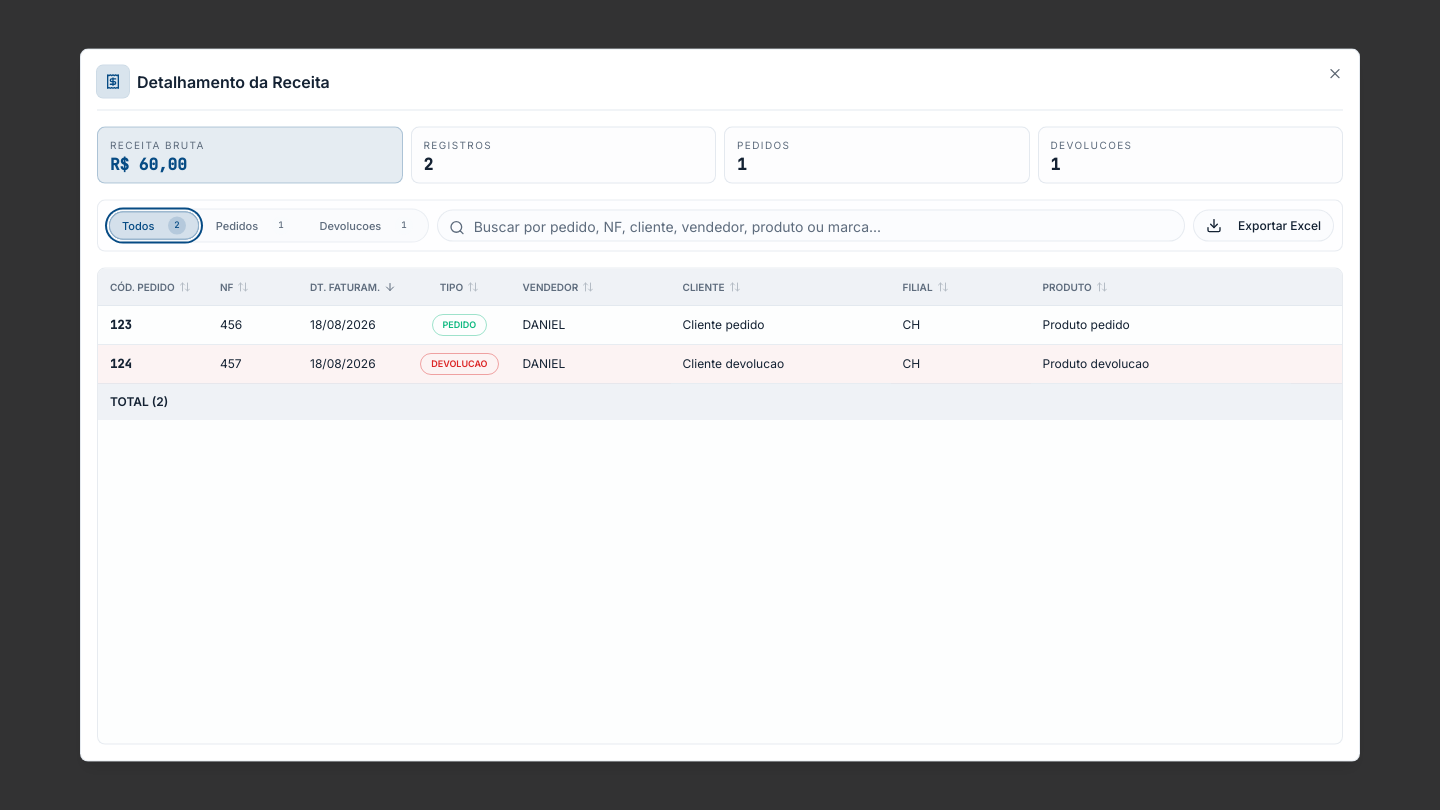
it: ReceitaDetalheDialog › filtra rapidamente entre pedidos e devolucoes e permite limpar busca
Expected: the button "Pedidos 1" is shown, [203,212,303,240]
Click the button "Devolucoes 1" at (366, 226), box [306,212,426,240]
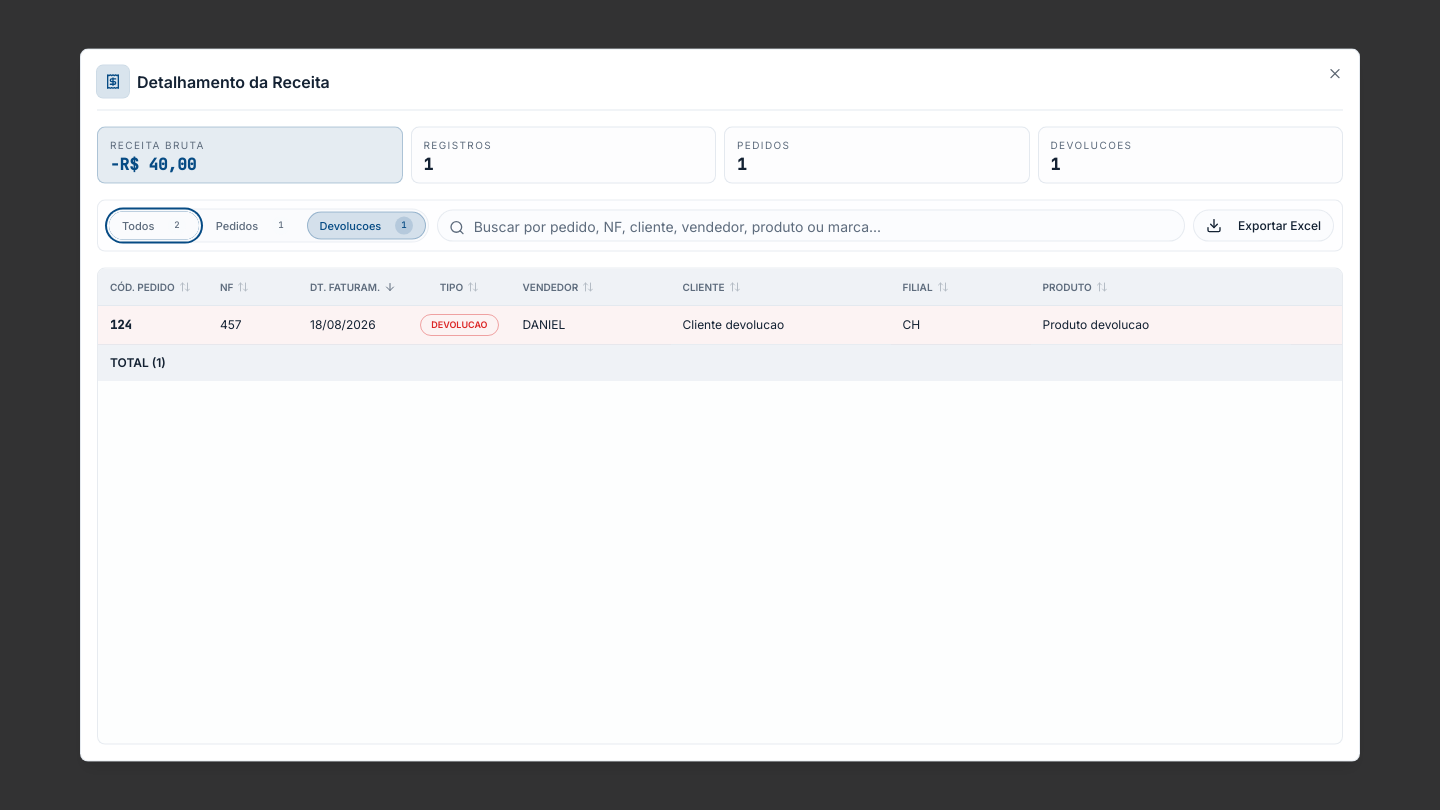
Expected: the text "Cliente devolucao" is shown, [670,305,890,344]
Result: the text "Cliente pedido" is gone
Replace the text in the field with placeholder "Buscar por pedido" with "sem resultado" at (811, 226), box [437,210,1185,242]
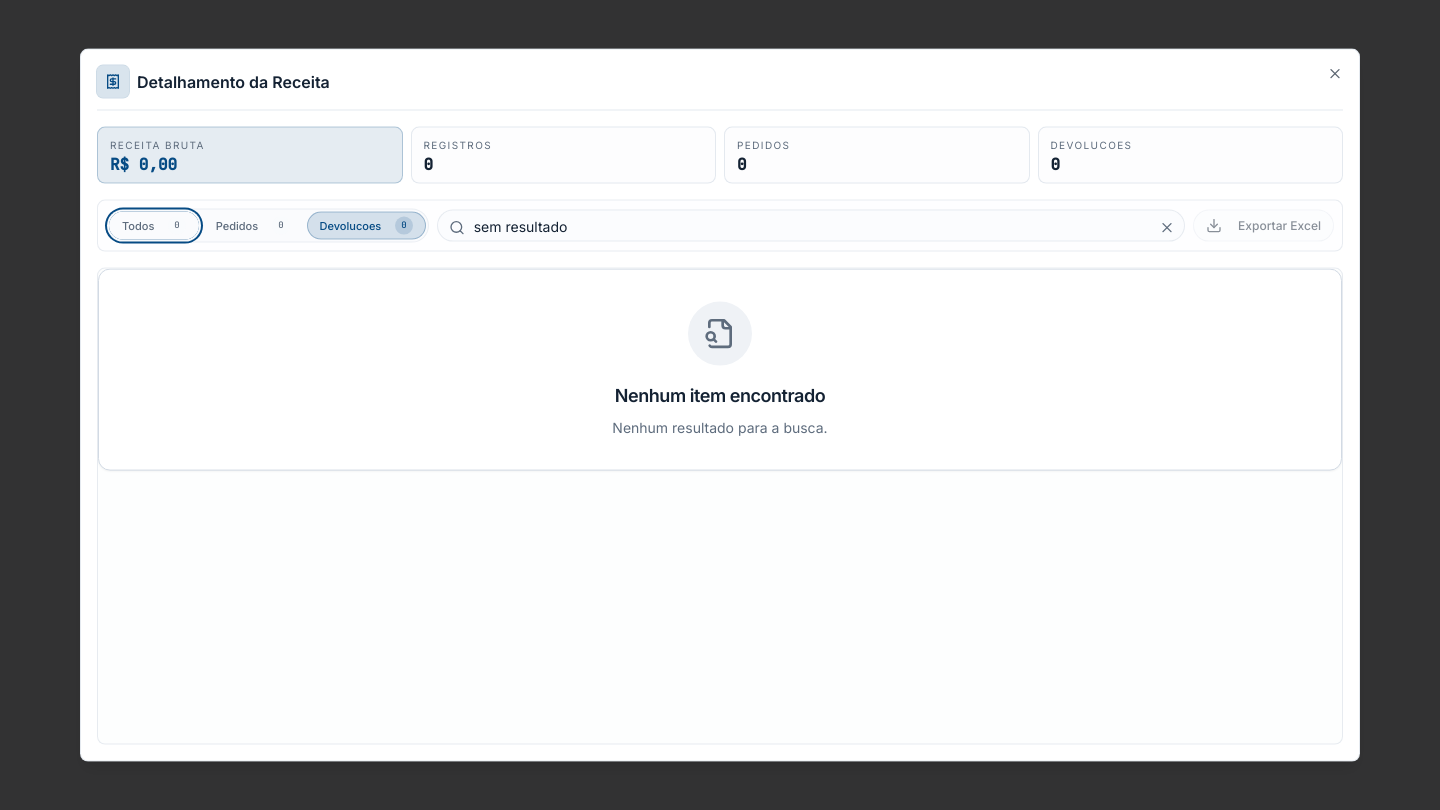
Result: the button named "limpar busca" is shown
Click the button named "limpar busca" at (1167, 228), box [1153,214,1181,242]
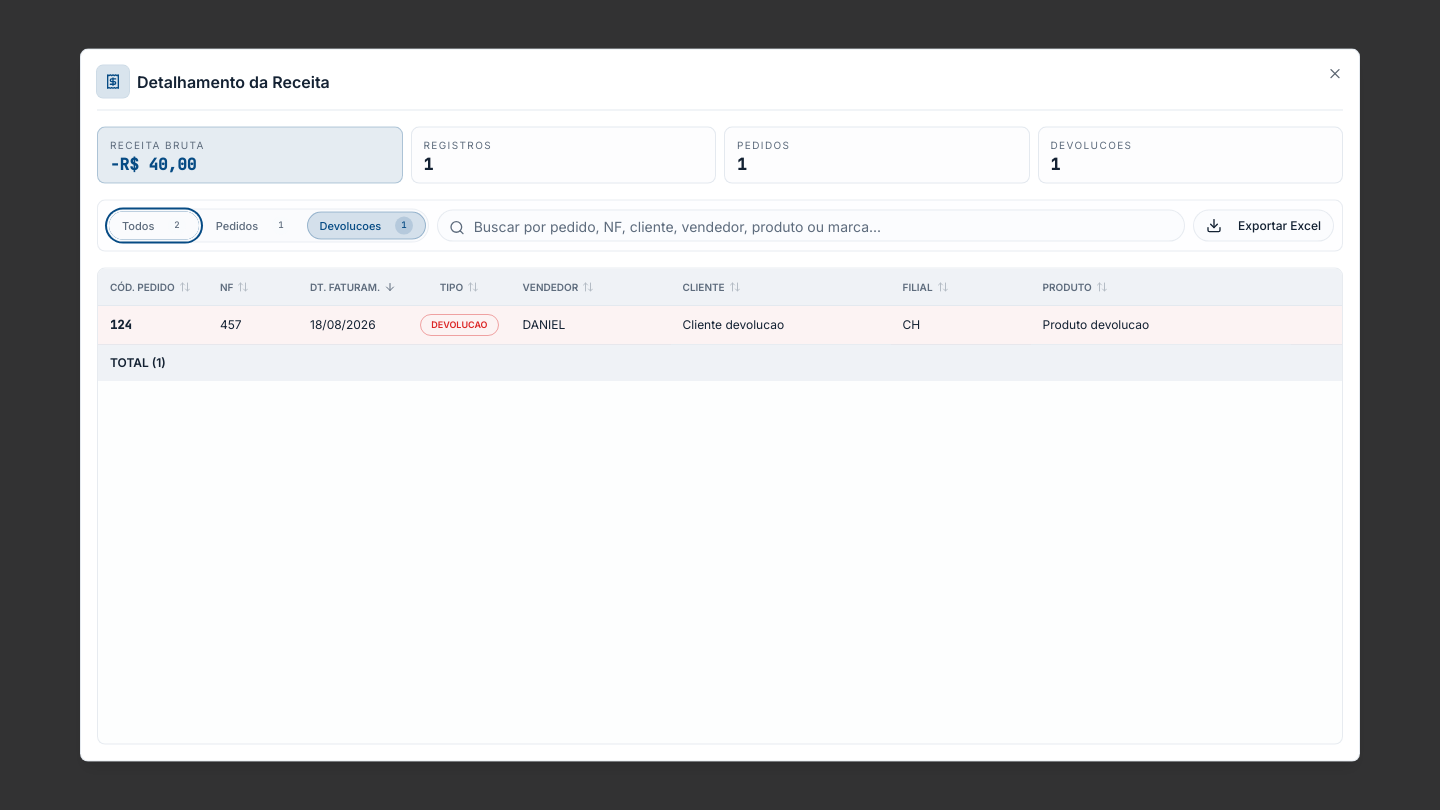
Result: the text "Cliente devolucao" is shown at [670,305,890,344]
